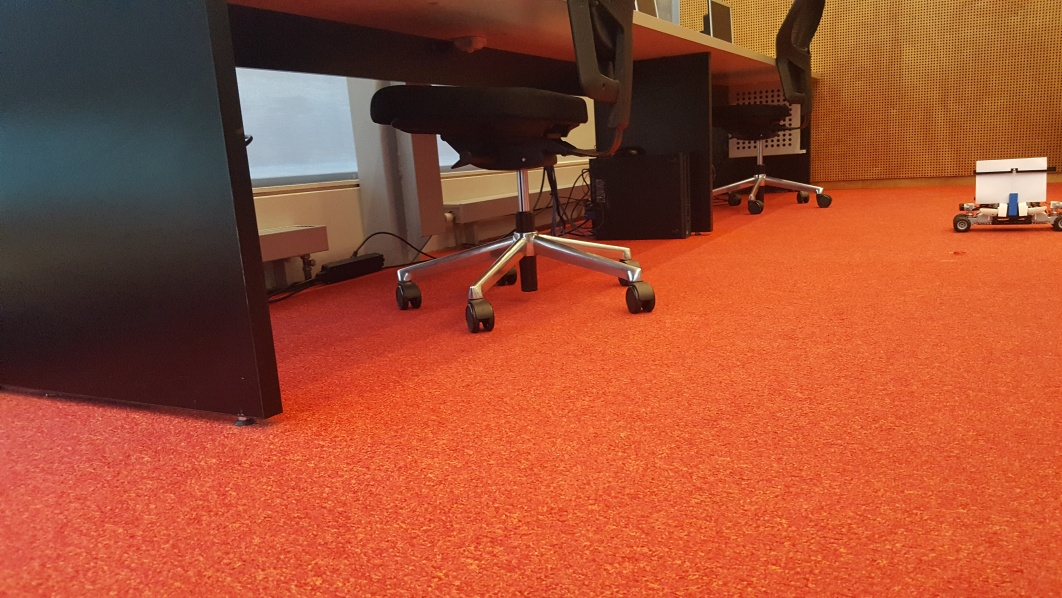car: (953, 157, 1062, 234)
